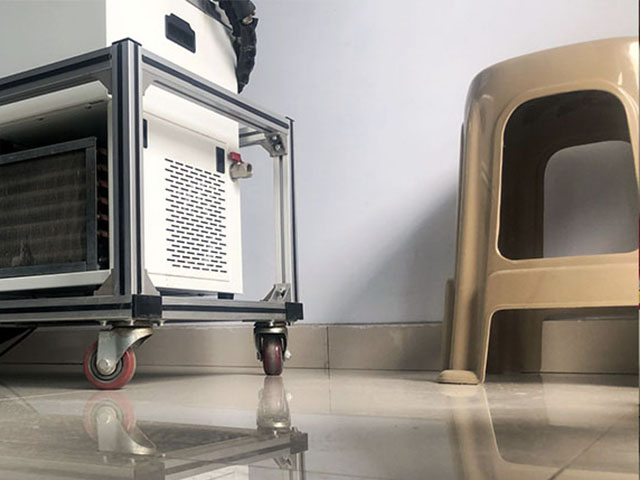stool: (433, 33, 640, 386)
